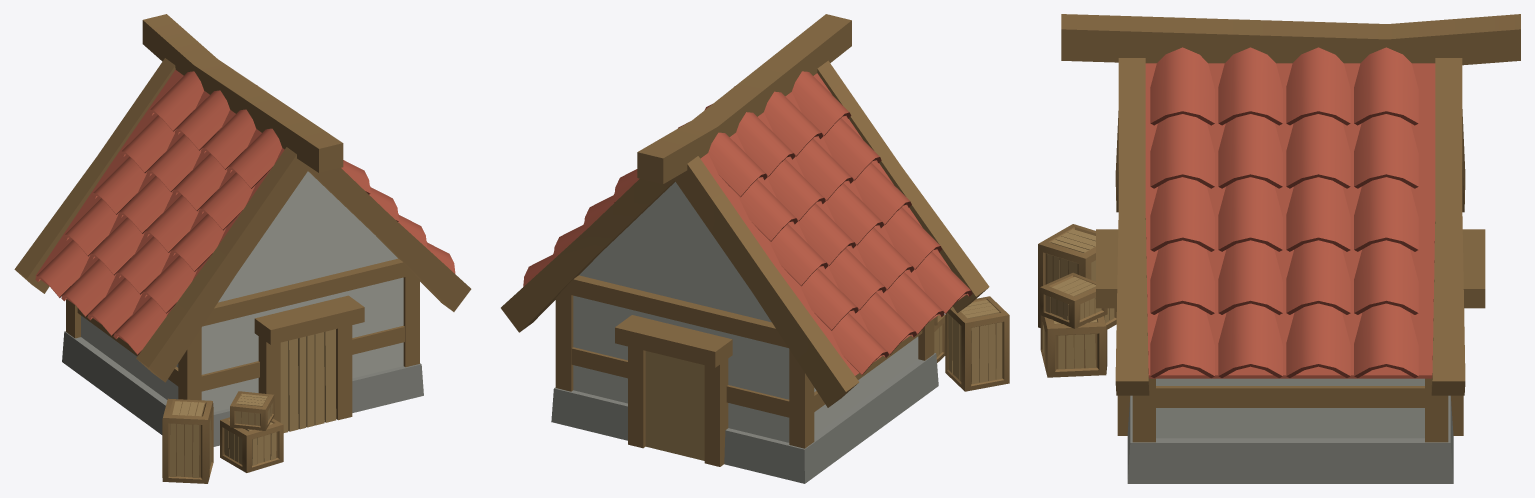
File: houses_secondage_1_level1.glb
3 views of the same model, side by side, from view 1: azimuth 30°, elevation 25°; view 2: azimuth 150°, elevation 25°; view 3: azimuth 270°, elevation 25° (orthographic). The views are drawn at different scales.
Parts seen in each view (by area): view 1: Houses_SecondAge_1_Level1; view 2: Houses_SecondAge_1_Level1; view 3: Houses_SecondAge_1_Level1.
Part boxes in pixels (left/top/right/bottom): Houses_SecondAge_1_Level1: left=14, top=14, right=471, bottom=483; Houses_SecondAge_1_Level1: left=501, top=14, right=1009, bottom=483; Houses_SecondAge_1_Level1: left=1038, top=14, right=1520, bottom=483.
Size of the model in its own units: 0.89 by 0.7722 by 0.8644.
